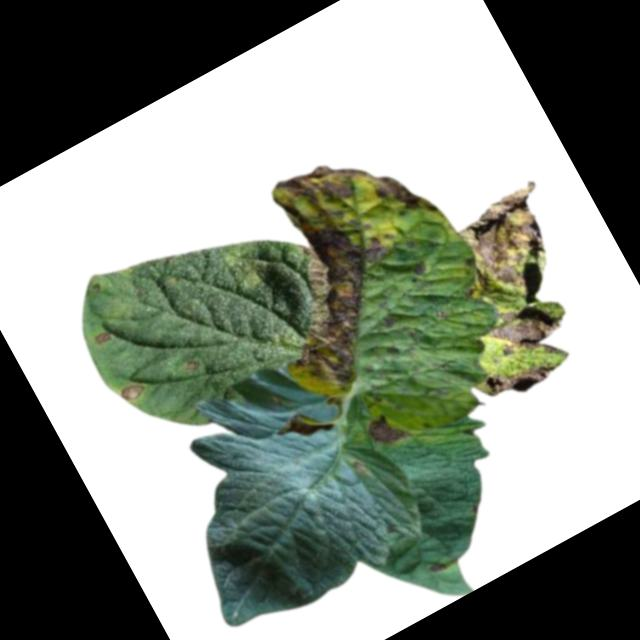Early_blight: (209, 120, 494, 409), (436, 178, 605, 361), (480, 348, 564, 415), (359, 406, 408, 453), (118, 377, 149, 405), (179, 352, 203, 375), (425, 554, 448, 577), (348, 454, 369, 476), (91, 329, 112, 346)
